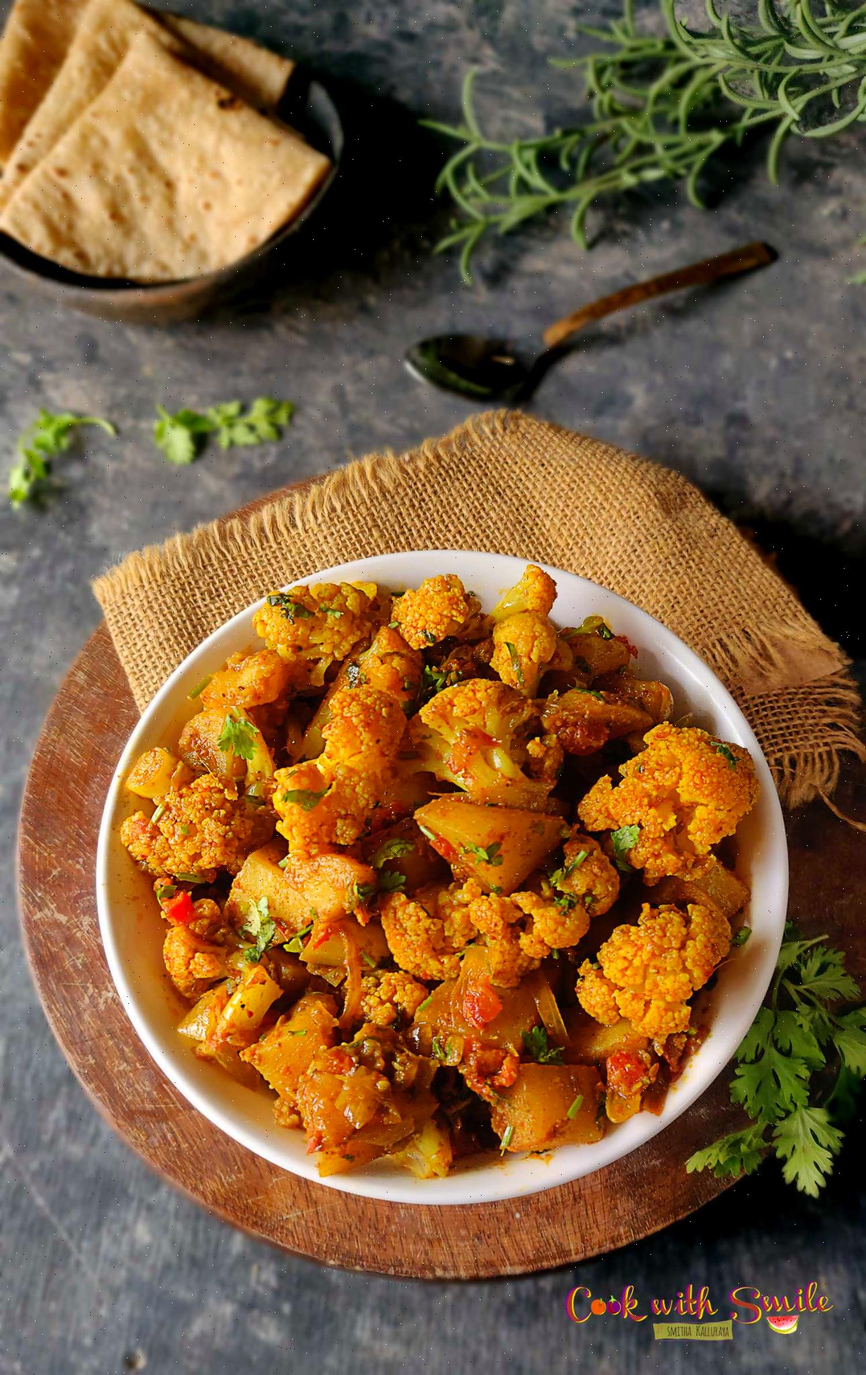aloo gobhi: (99, 581, 749, 1159)
roti phulka: (0, 0, 333, 303)
